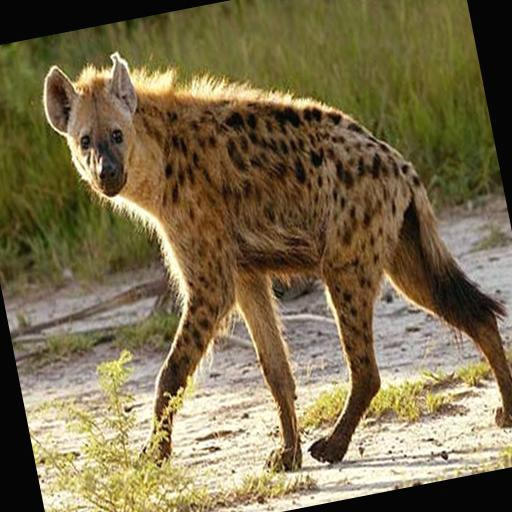hyenas: (10, 0, 488, 506)
